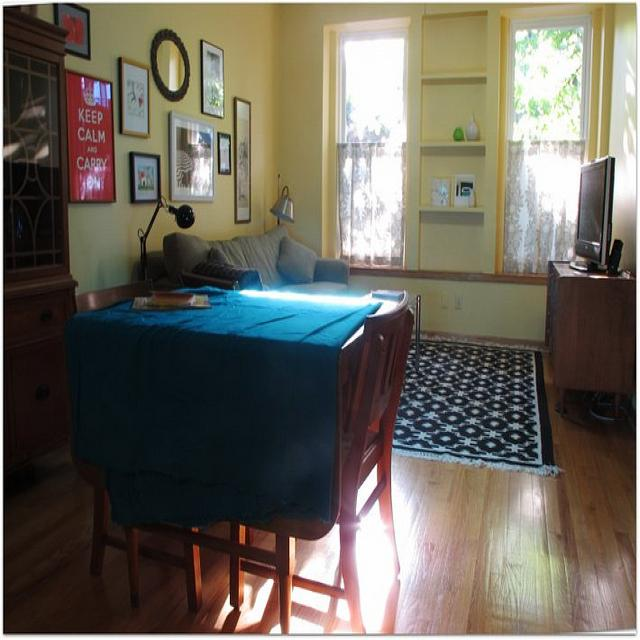chair: (82, 281, 205, 604), (337, 290, 411, 630)
dining table: (73, 283, 399, 542)
